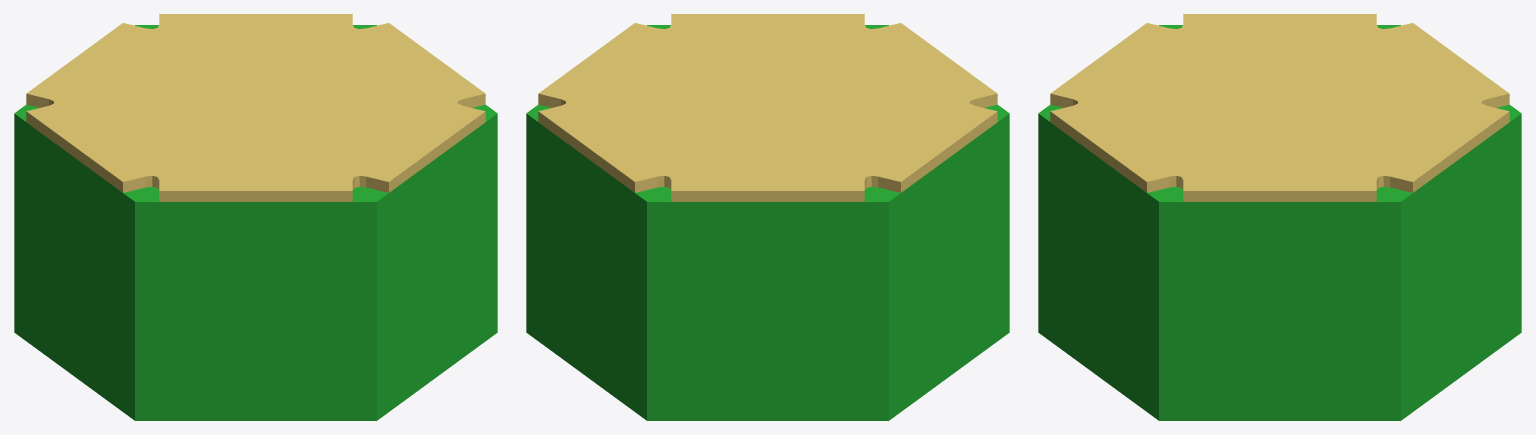
The model's file is path-full_corner.glb.
3 renders of one model, left to right at view 1: azimuth 30°, elevation 25°; view 2: azimuth 150°, elevation 25°; view 3: azimuth 270°, elevation 25°, orthographic.
Parts seen in each view (by area): view 1: path-full_corner; view 2: path-full_corner; view 3: path-full_corner.
Boxes of the visible parts, bbox=[...] form: path-full_corner: bbox=[14, 14, 497, 420]; path-full_corner: bbox=[526, 14, 1009, 420]; path-full_corner: bbox=[1038, 14, 1521, 420].
Size of the model in its own units: 0.866 by 0.525 by 1.
